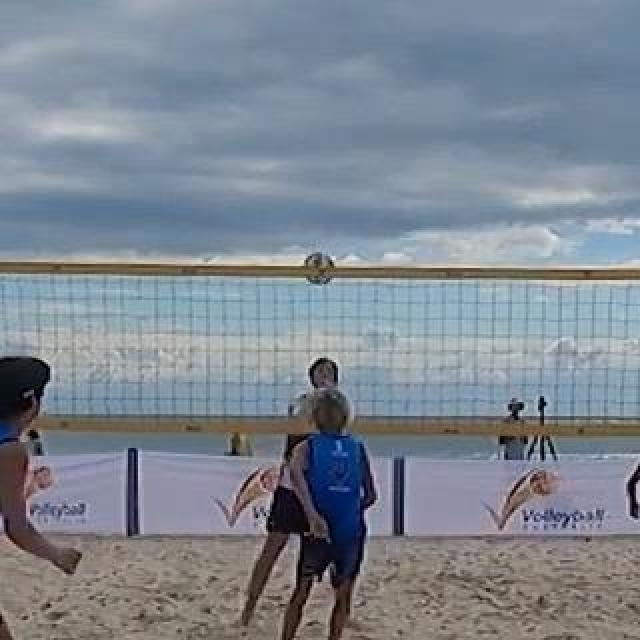volleyball: (304, 252, 334, 284)
